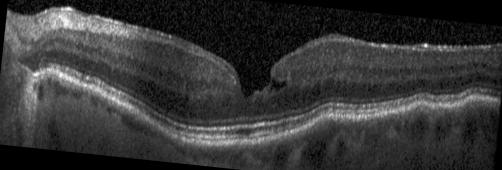intraretinal_cyst: (270, 78, 286, 90)
lamellar_macular_rupture: (235, 67, 271, 96)
